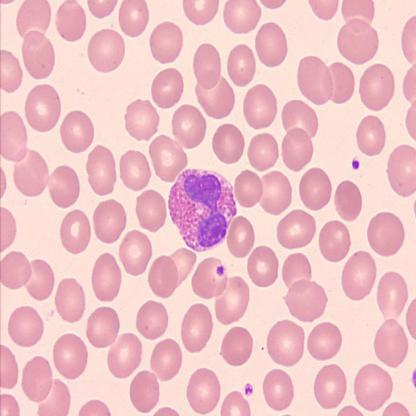Eosinophil: (168, 167, 236, 251)
